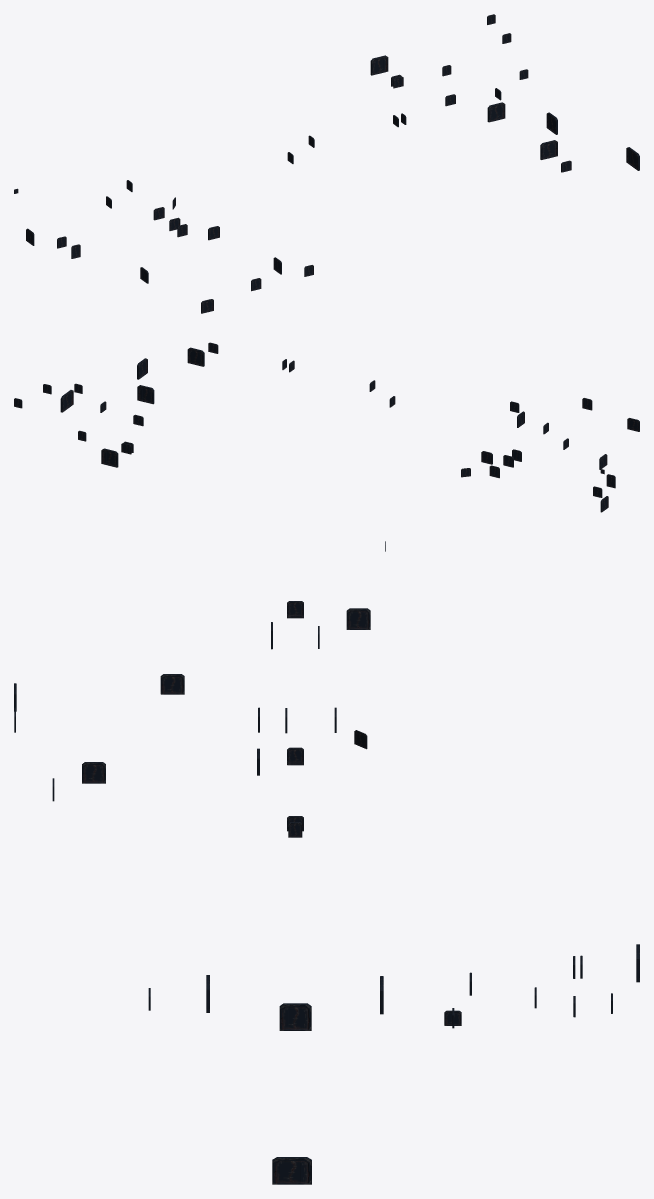
The model's file is Doors.fbx.
3 views of the same model, one above another, from view 1: azimuth 30°, elevation 25°; view 2: azimuth 150°, elevation 25°; view 3: azimuth 270°, elevation 25° (orthographic). The views are drawn at different scales.
Bounding box in the file's own units: 77377 × 13354 × 42830.
Materials: 1 (1 with a texture image).
